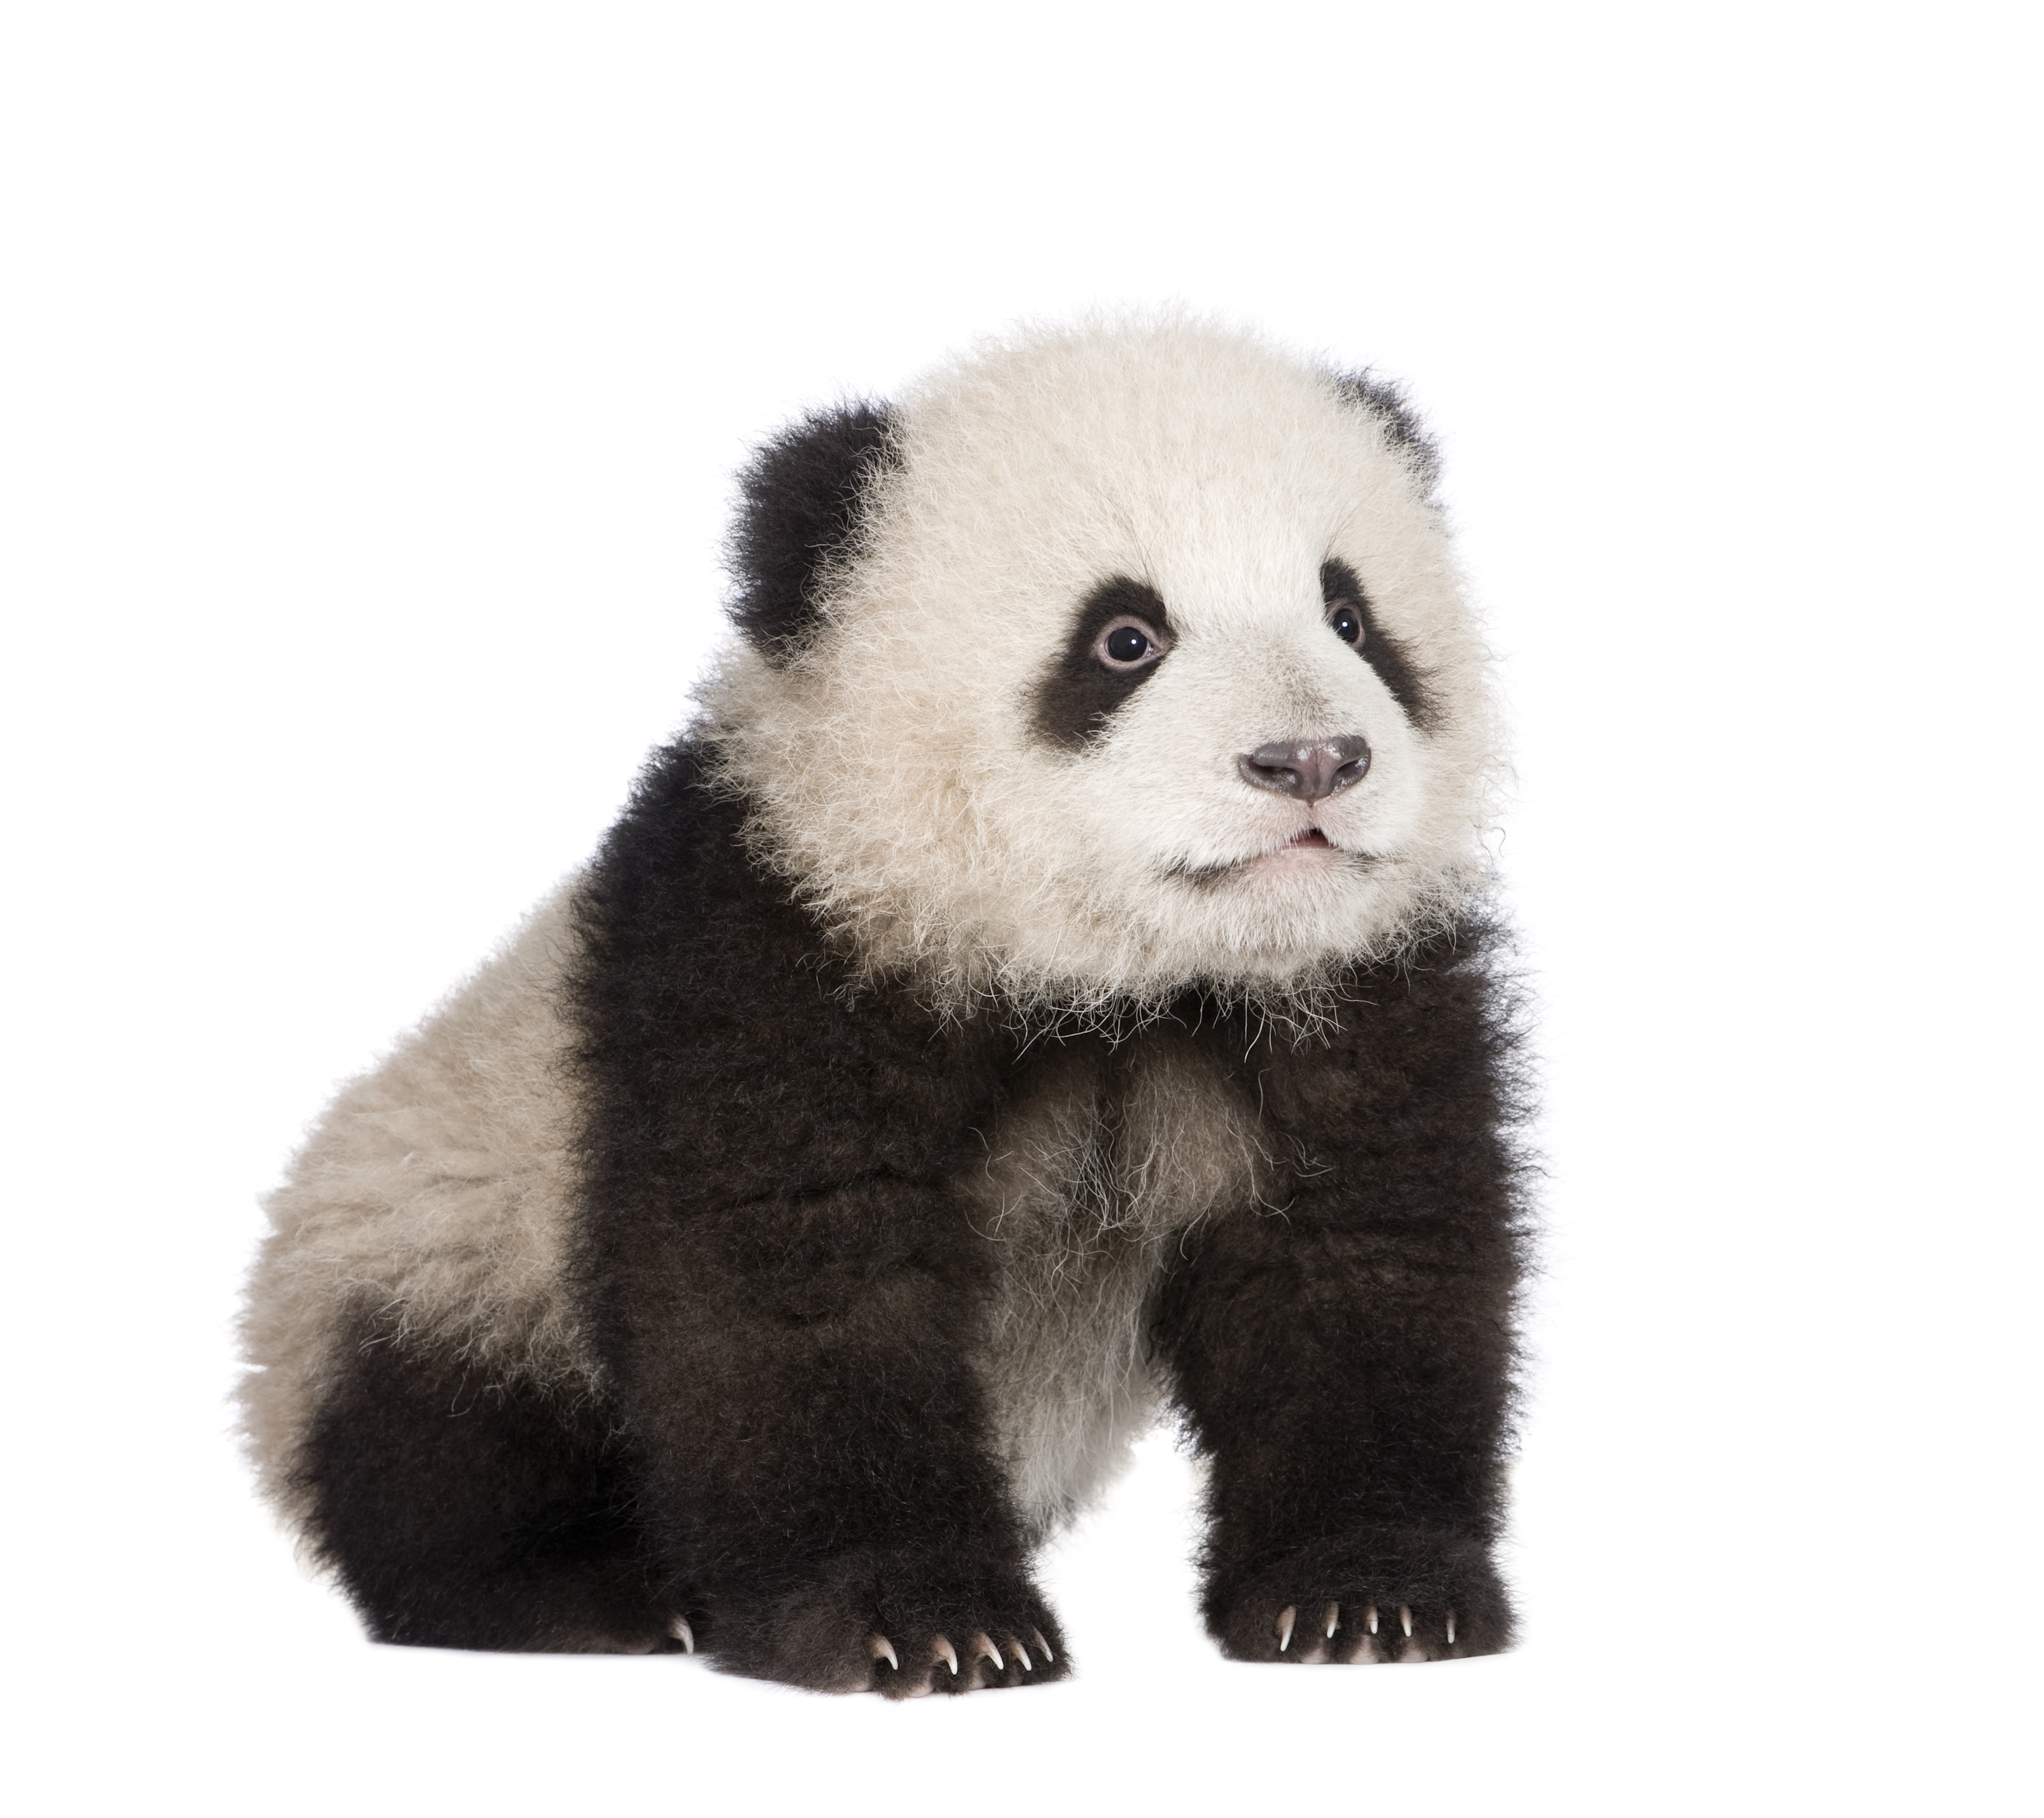panda: (242, 258, 1654, 1692)
